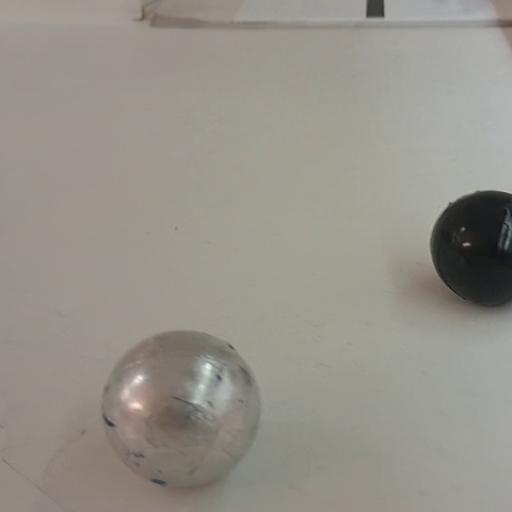alive: (98, 328, 266, 488)
dead: (428, 189, 512, 307)
